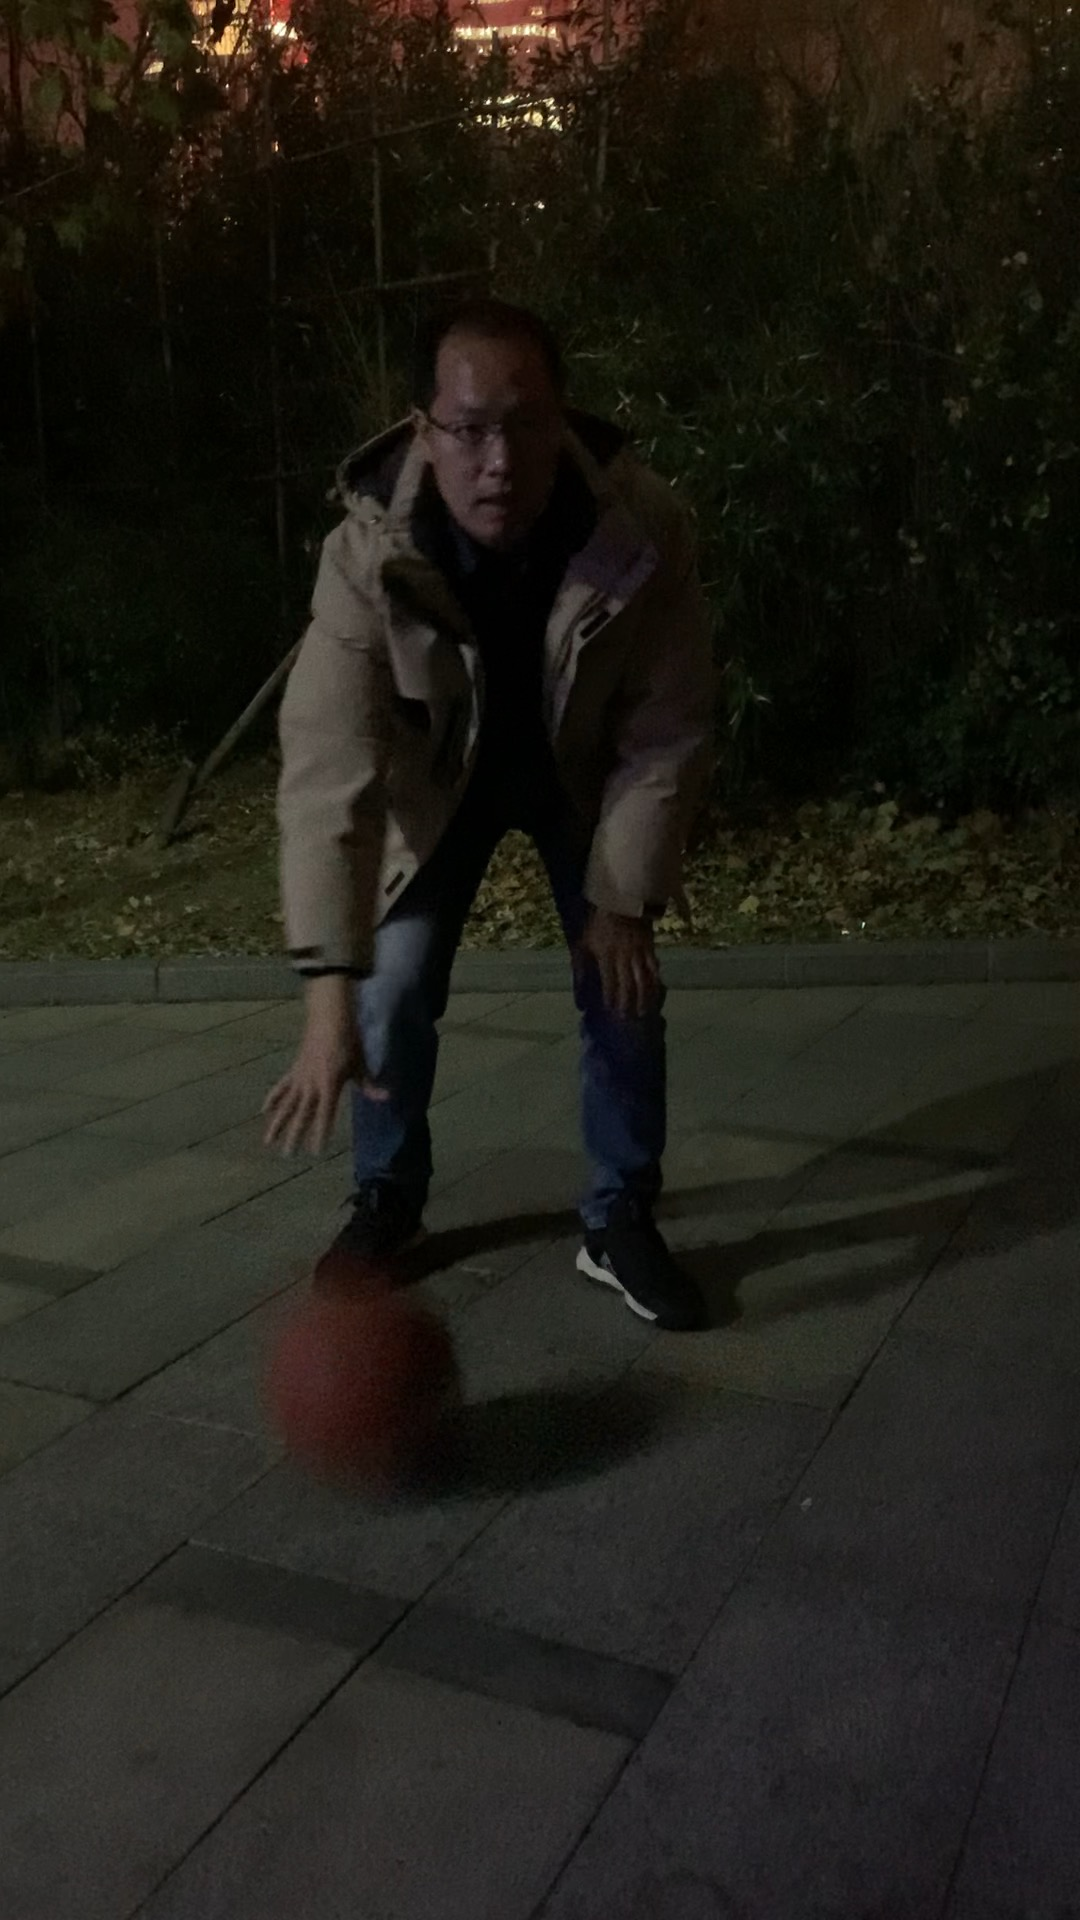ball: (273, 1290, 469, 1505)
